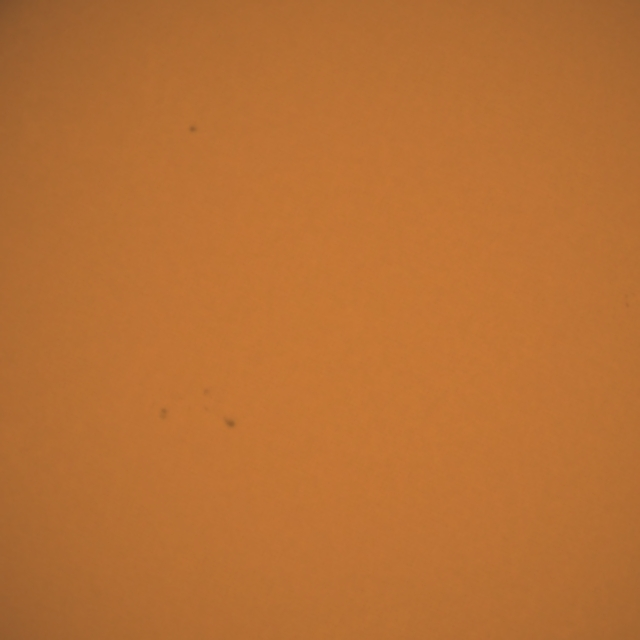sunspot: (200, 385, 213, 409), (623, 290, 637, 310), (222, 414, 238, 431), (158, 406, 170, 422), (186, 123, 199, 136)
